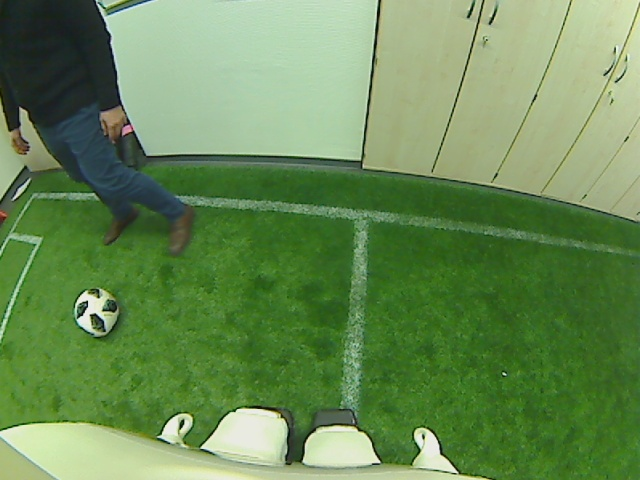ball: (70, 286, 120, 339)
